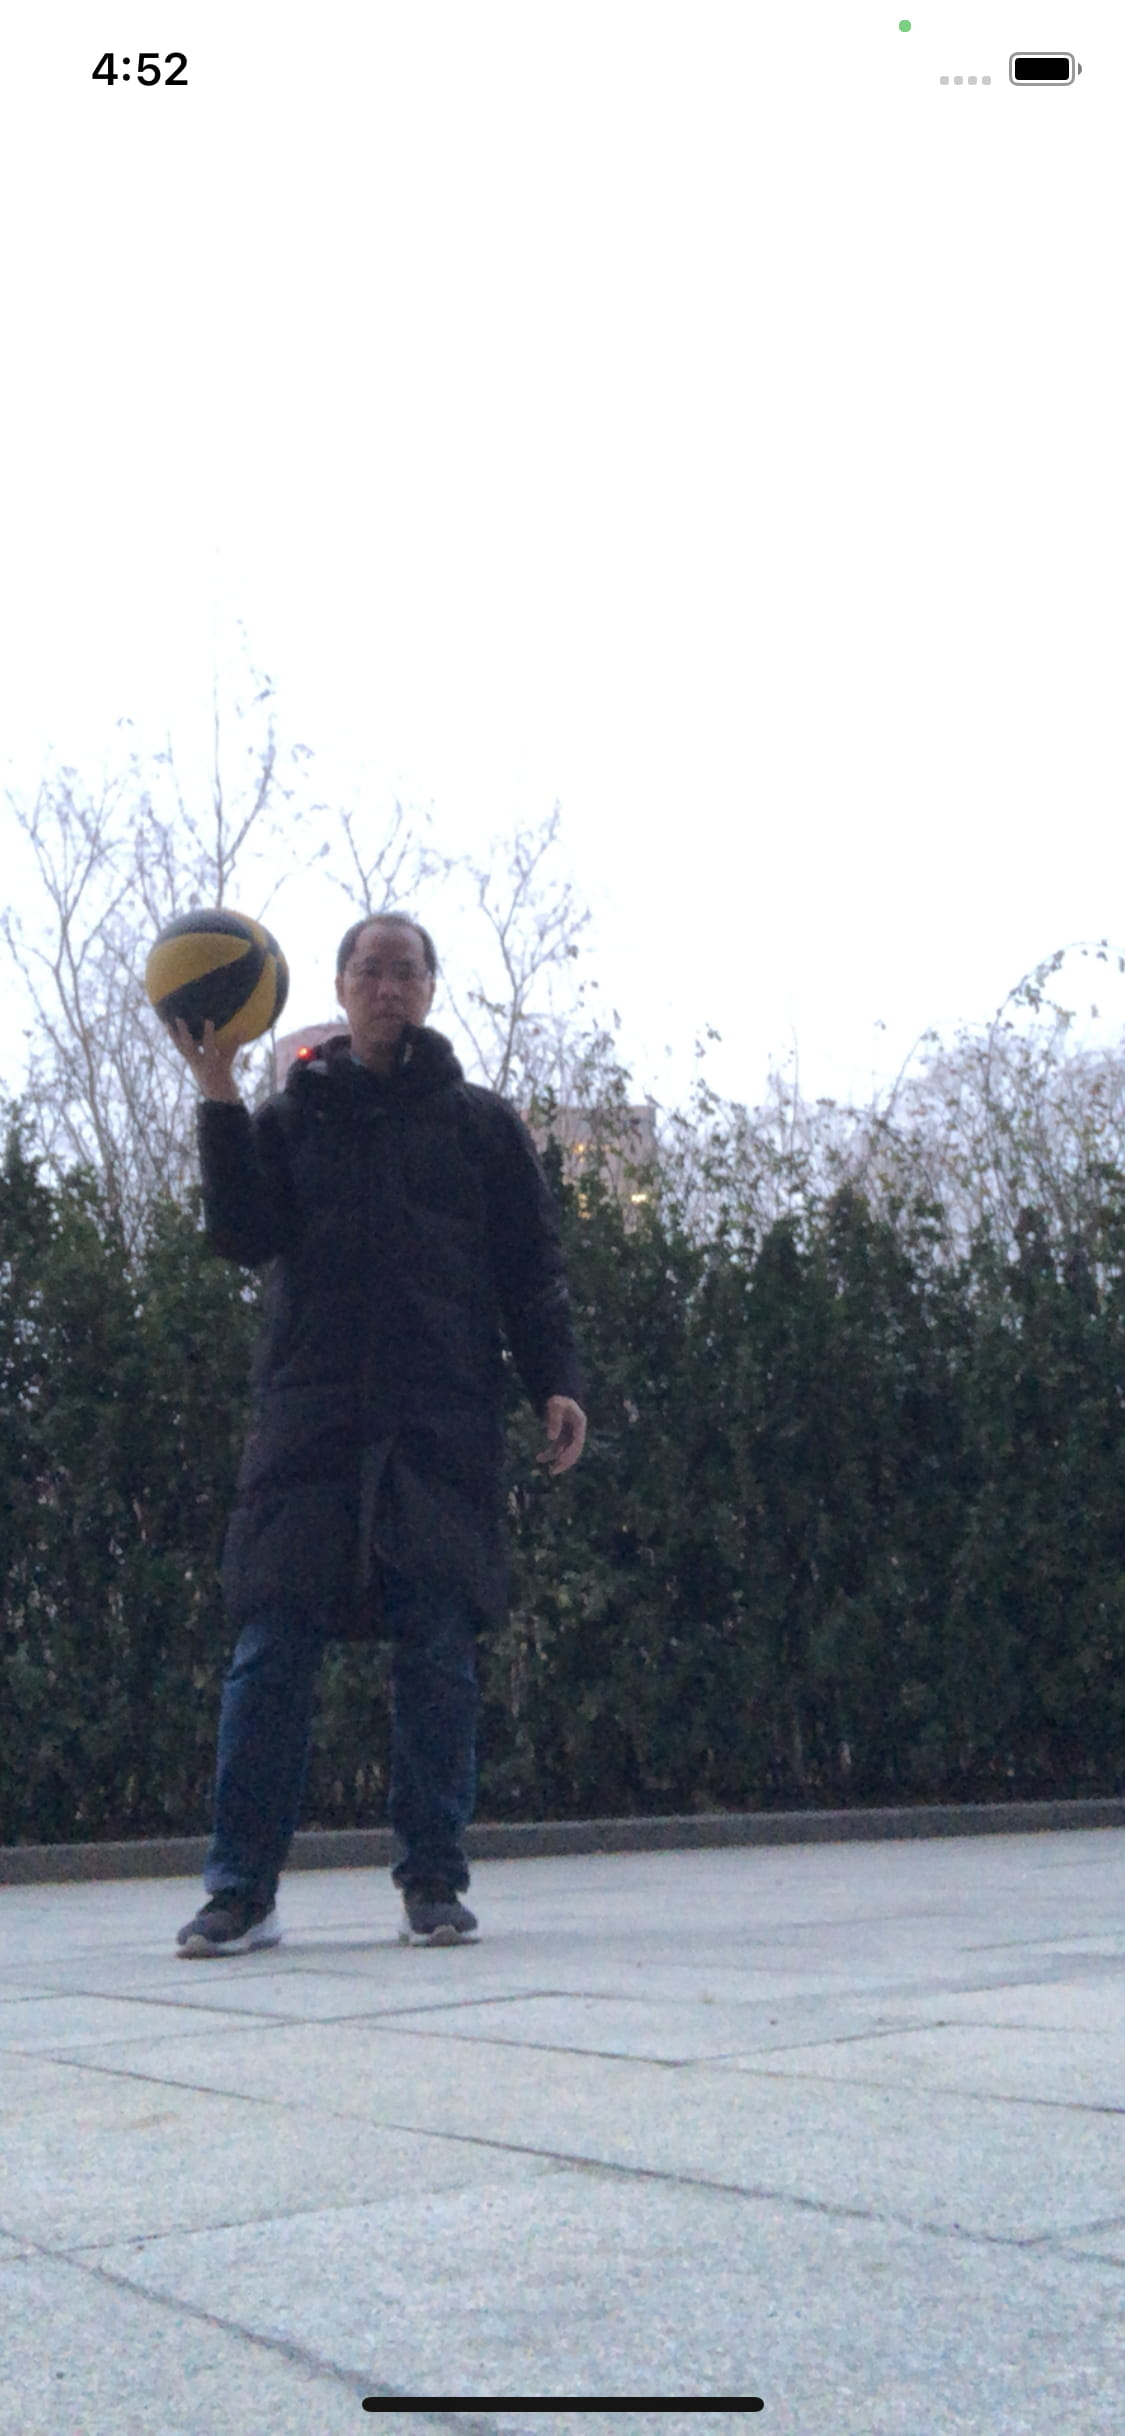ball: (146, 907, 291, 1046)
